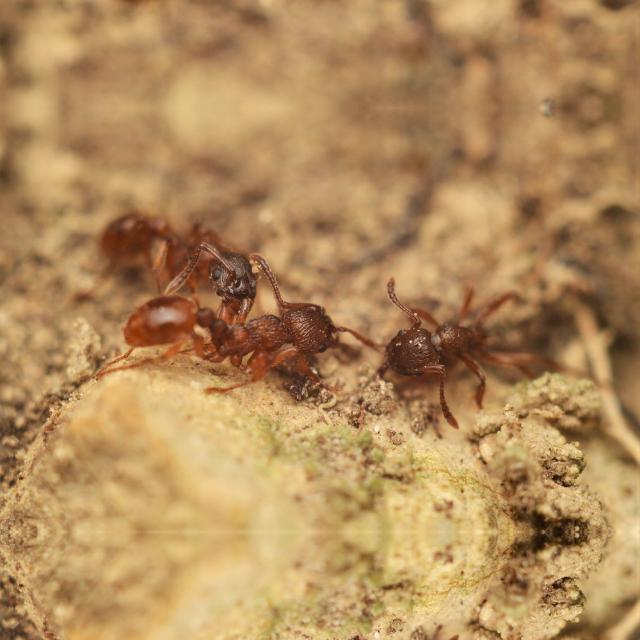Myrmica: (84, 171, 286, 325), (383, 274, 573, 402), (122, 285, 350, 391), (84, 0, 286, 42)
